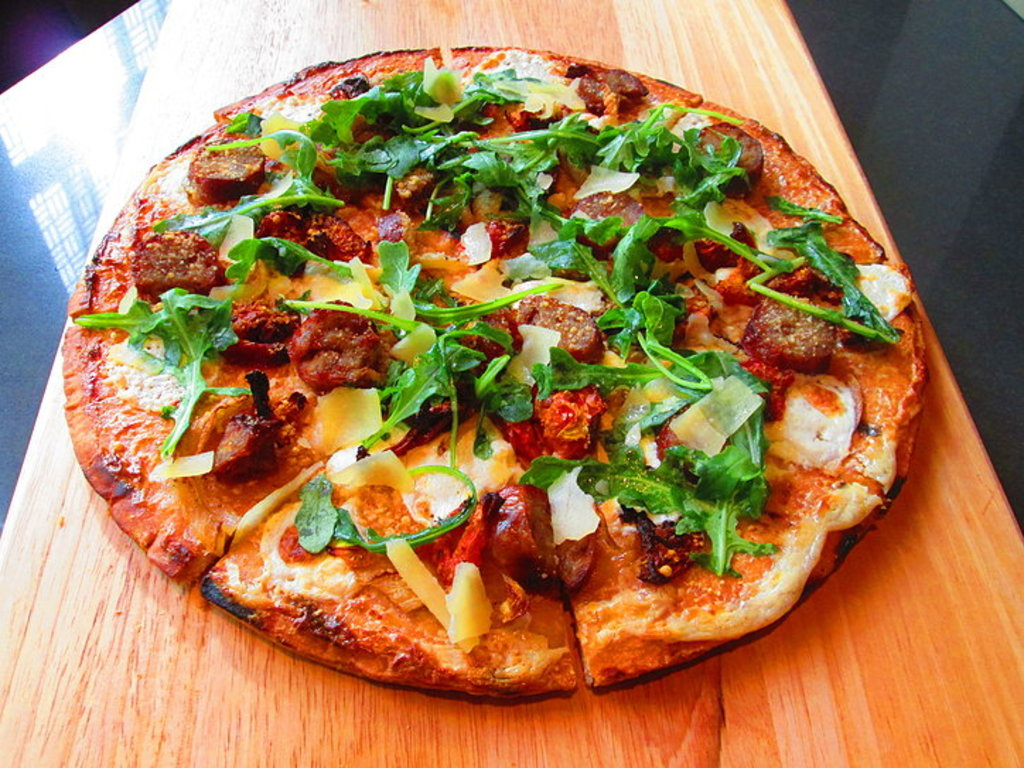Pizza: (59, 42, 924, 704)
